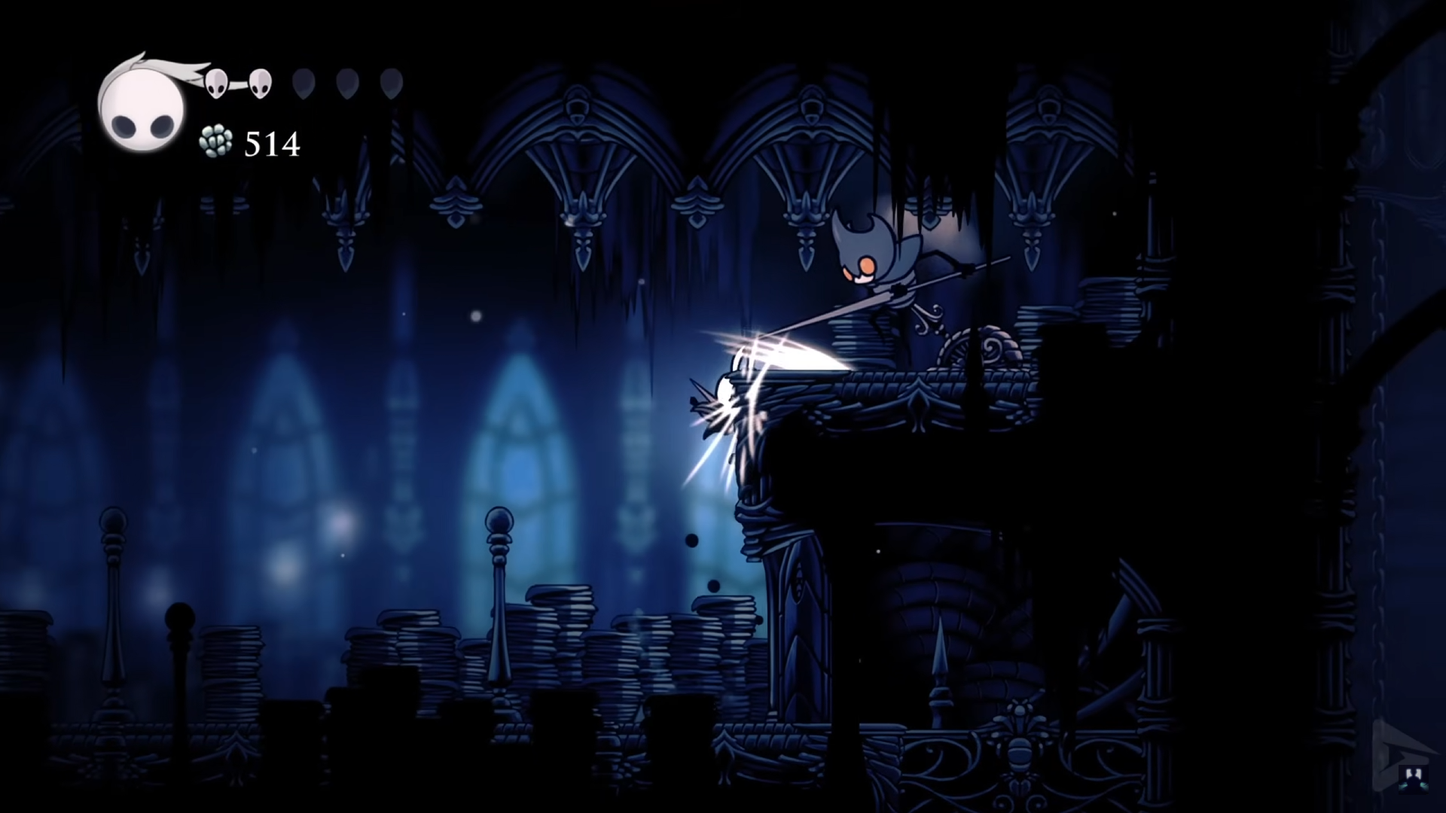HK: (682, 349, 752, 442)
